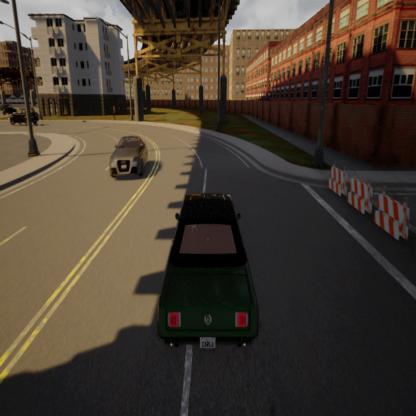Cars: (158, 194, 258, 349), (111, 134, 147, 177), (10, 108, 38, 127), (1, 102, 17, 116)
Pedestrian: (112, 105, 116, 120)
